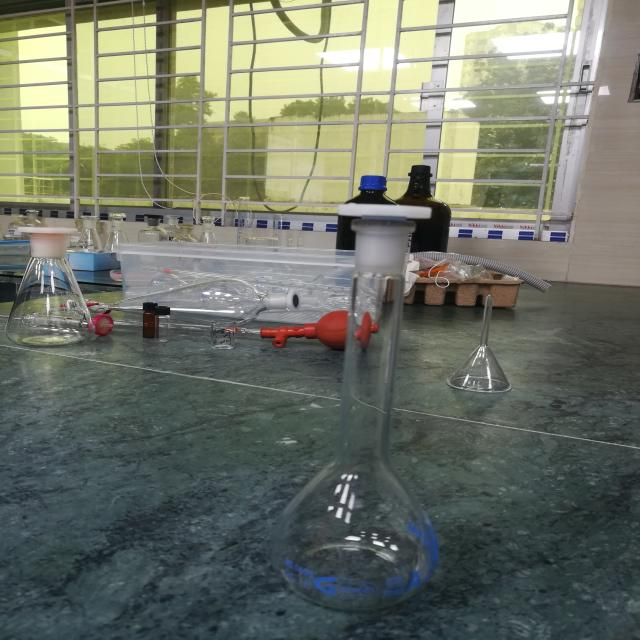Volumetric_Flask: (254, 127, 471, 640)
